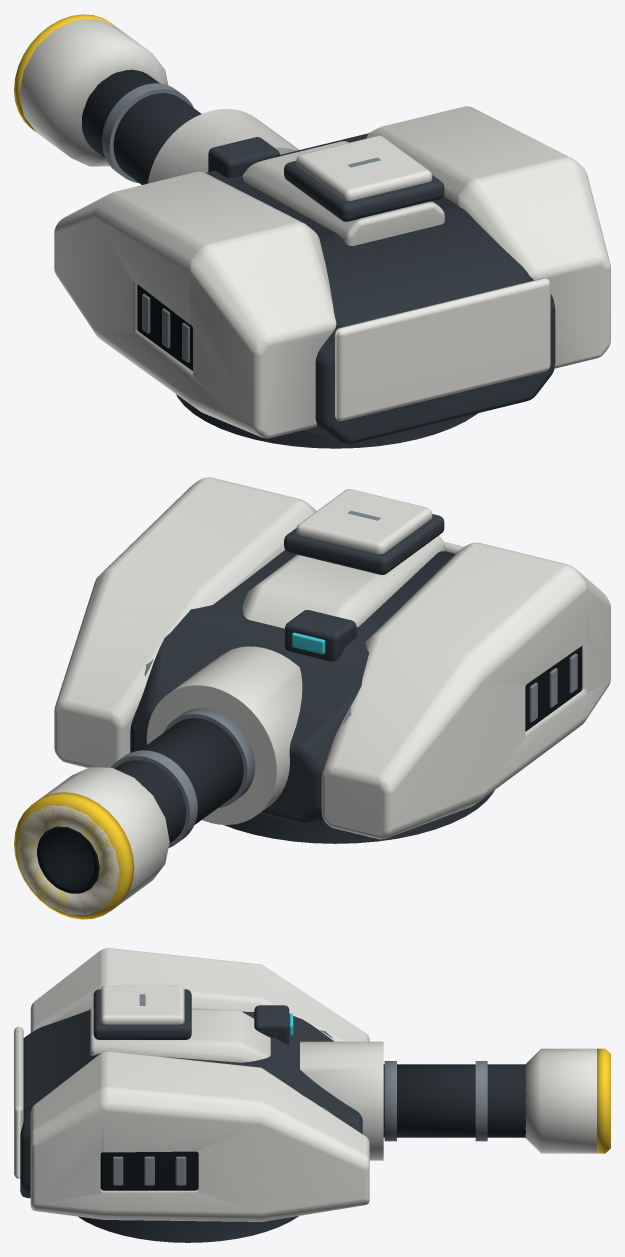
Rendered from cannon.glb.
3 views of the same model, one above another, from view 1: azimuth 30°, elevation 25°; view 2: azimuth 150°, elevation 25°; view 3: azimuth 270°, elevation 25° (orthographic). The views are drawn at different scales.
Visible parts, largest first — view 1: Soft_135 ivory armor, Soft_135 mechanism, Soft_135 ivory armor.001, Soft_135 mechanism.001, Soft_135 recess, Soft_135 steel, Soft_135 yellow, Soft_135 steel.001; view 2: Soft_135 ivory armor, Soft_135 mechanism, Soft_135 ivory armor.001, Soft_135 mechanism.001, Soft_135 yellow, Soft_135 steel, Soft_135 recess.001, Soft_135 recess, Soft_135 steel.001; view 3: Soft_135 ivory armor, Soft_135 mechanism, Soft_135 ivory armor.001, Soft_135 mechanism.001, Soft_135 recess, Soft_135 steel, Soft_135 yellow, Soft_135 steel.001.
Part boxes in pixels (x1=…): Soft_135 ivory armor: x1=54, y1=106, x2=610, y2=438; Soft_135 mechanism: x1=176, y1=133, x2=555, y2=448; Soft_135 ivory armor.001: x1=19, y1=19, x2=298, y2=183; Soft_135 mechanism.001: x1=82, y1=69, x2=201, y2=184; Soft_135 recess: x1=137, y1=284, x2=192, y2=370; Soft_135 steel: x1=102, y1=83, x2=193, y2=182; Soft_135 yellow: x1=14, y1=14, x2=116, y2=131; Soft_135 steel.001: x1=142, y1=157, x2=380, y2=362; Soft_135 ivory armor: x1=54, y1=477, x2=610, y2=839; Soft_135 mechanism: x1=130, y1=514, x2=494, y2=843; Soft_135 ivory armor.001: x1=16, y1=646, x2=302, y2=914; Soft_135 mechanism.001: x1=115, y1=718, x2=243, y2=843; Soft_135 yellow: x1=14, y1=792, x2=134, y2=919; Soft_135 steel: x1=110, y1=708, x2=255, y2=847; Soft_135 recess.001: x1=37, y1=826, x2=99, y2=893; Soft_135 recess: x1=525, y1=646, x2=582, y2=731; Soft_135 steel.001: x1=144, y1=510, x2=577, y2=724; Soft_135 ivory armor: x1=14, y1=948, x2=369, y2=1221; Soft_135 mechanism: x1=20, y1=989, x2=362, y2=1242; Soft_135 ivory armor.001: x1=300, y1=1041, x2=596, y2=1160; Soft_135 mechanism.001: x1=383, y1=1064, x2=525, y2=1137; Soft_135 recess: x1=100, y1=1151, x2=198, y2=1190; Soft_135 steel: x1=384, y1=1061, x2=487, y2=1141; Soft_135 yellow: x1=597, y1=1048, x2=610, y2=1153; Soft_135 steel.001: x1=113, y1=994, x2=332, y2=1185.
Bounding box in the file's own units: 1.04 × 0.594 × 1.71.
